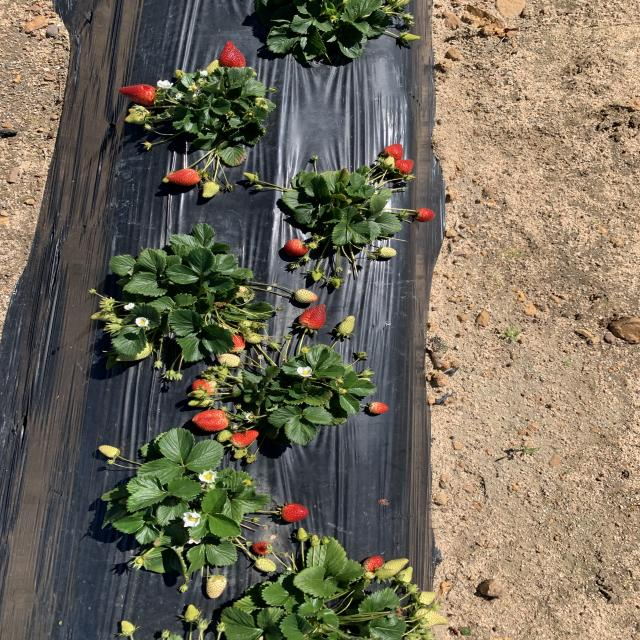unripe: (218, 40, 249, 67), (190, 409, 228, 431), (120, 84, 157, 106), (297, 304, 329, 329), (166, 168, 202, 185), (281, 502, 309, 522), (230, 430, 261, 447), (284, 239, 310, 258), (192, 378, 219, 396), (221, 334, 246, 352), (389, 158, 416, 174), (361, 555, 385, 571), (382, 144, 405, 160), (415, 208, 435, 222), (369, 402, 388, 414), (253, 542, 272, 554)
